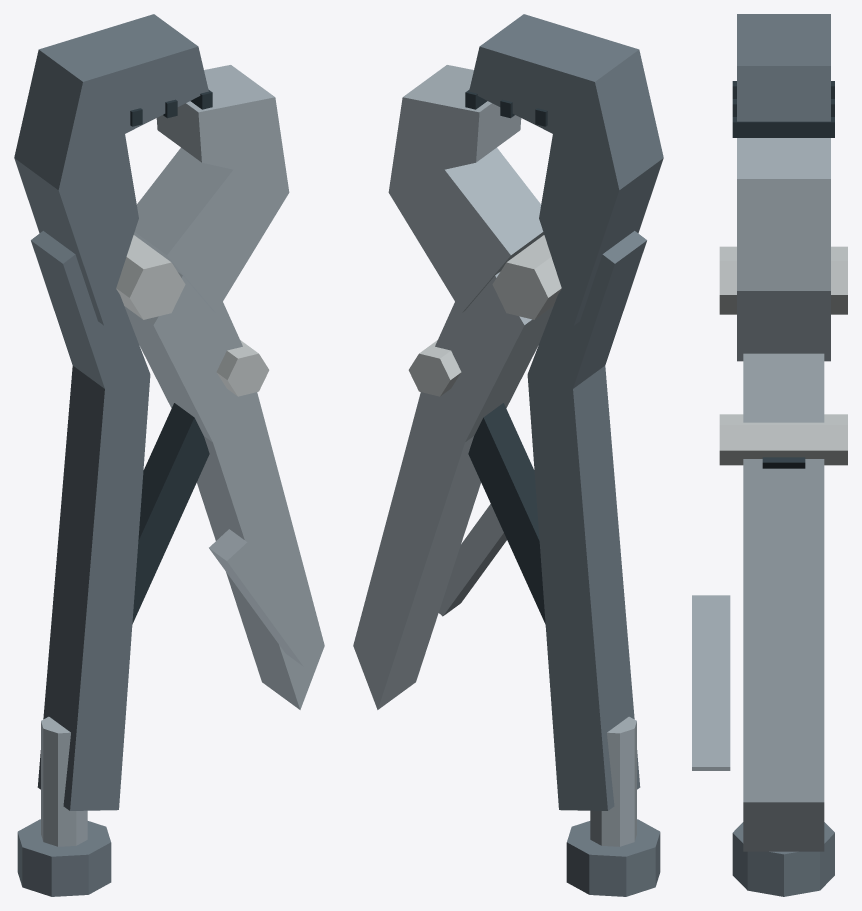
Rendered from b06_locking_pliers.glb.
3 views of the same model, side by side, from view 1: azimuth 30°, elevation 25°; view 2: azimuth 150°, elevation 25°; view 3: azimuth 270°, elevation 25° (orthographic). The views are drawn at different scales.
Parts seen in each view (by area): view 1: b06_locking_pliers; view 2: b06_locking_pliers; view 3: b06_locking_pliers.
Part boxes in pixels (bbox=[...]): b06_locking_pliers: bbox=[14, 14, 324, 896]; b06_locking_pliers: bbox=[353, 14, 663, 896]; b06_locking_pliers: bbox=[692, 14, 847, 896].
Size of the model in its own units: 0.081 by 0.224 by 0.0365.
